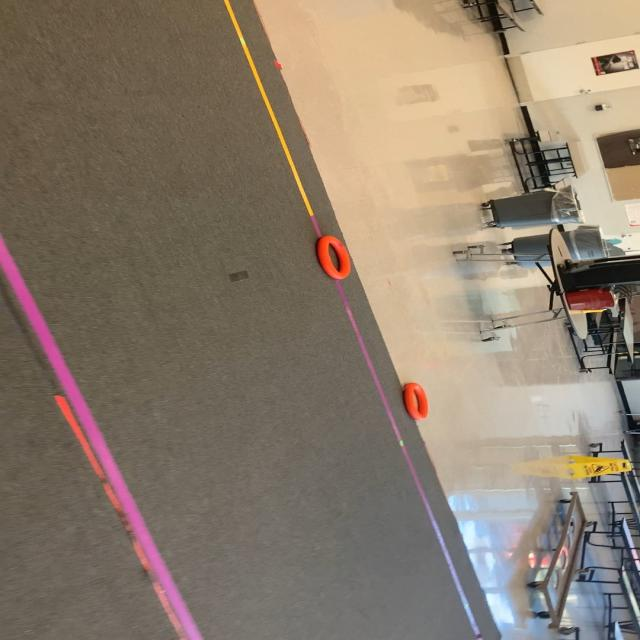notes: (317, 234, 355, 283), (400, 376, 430, 424)
